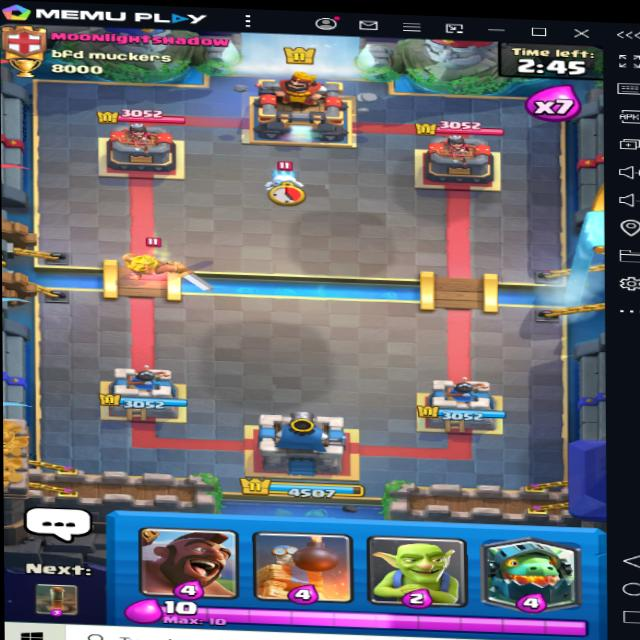golden-knight: (117, 242, 195, 294)
golden-knight-ability: (110, 247, 214, 296)
ice-spirit: (257, 158, 316, 198)
